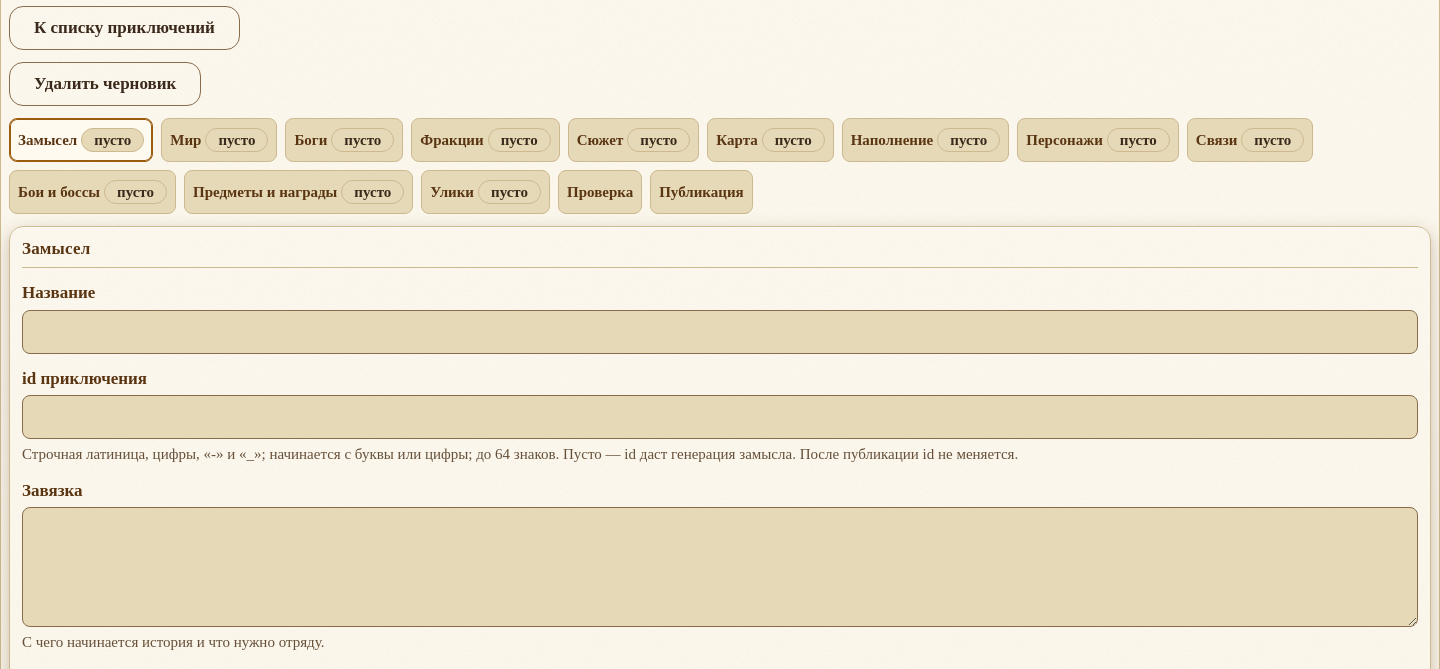
it: шаг «Связи» › при фильтре новая связь начинается с выбранной сущности и остаётся видна
Click the button "Связи пусто" at [1250, 140], box [1187,118,1313,162]
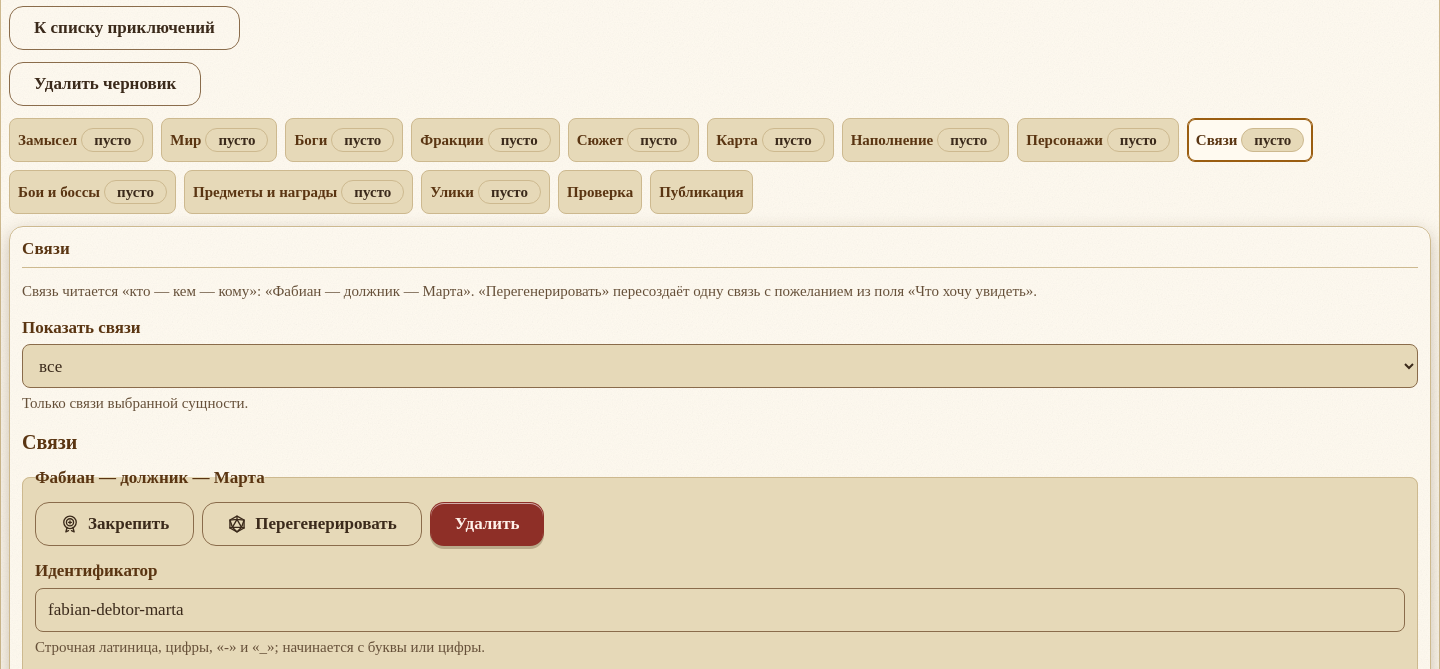
Select "Гильдия теней (фракция)" in the dropdown labelled "Показать связи" at [720, 366], box [22,344,1418,388]
(page scrolled)
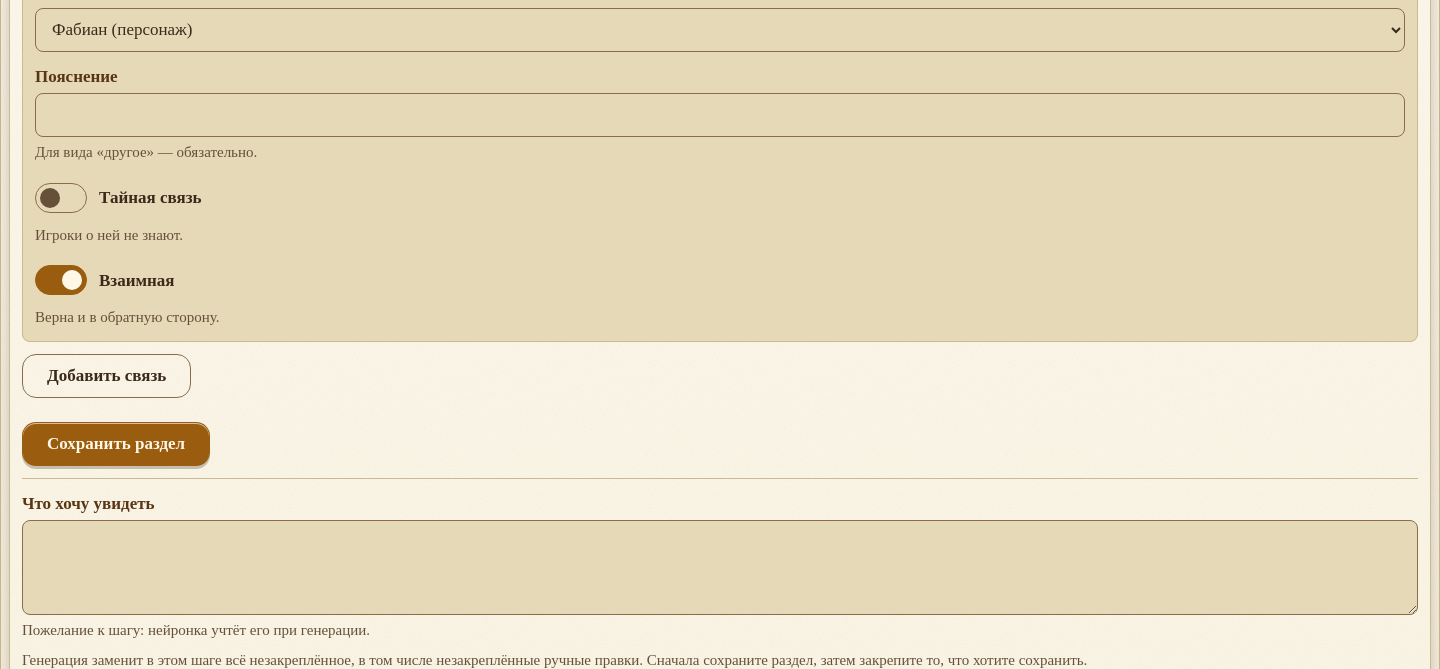
Click the button "Добавить связь" at [107, 376], box [22,354,191,398]
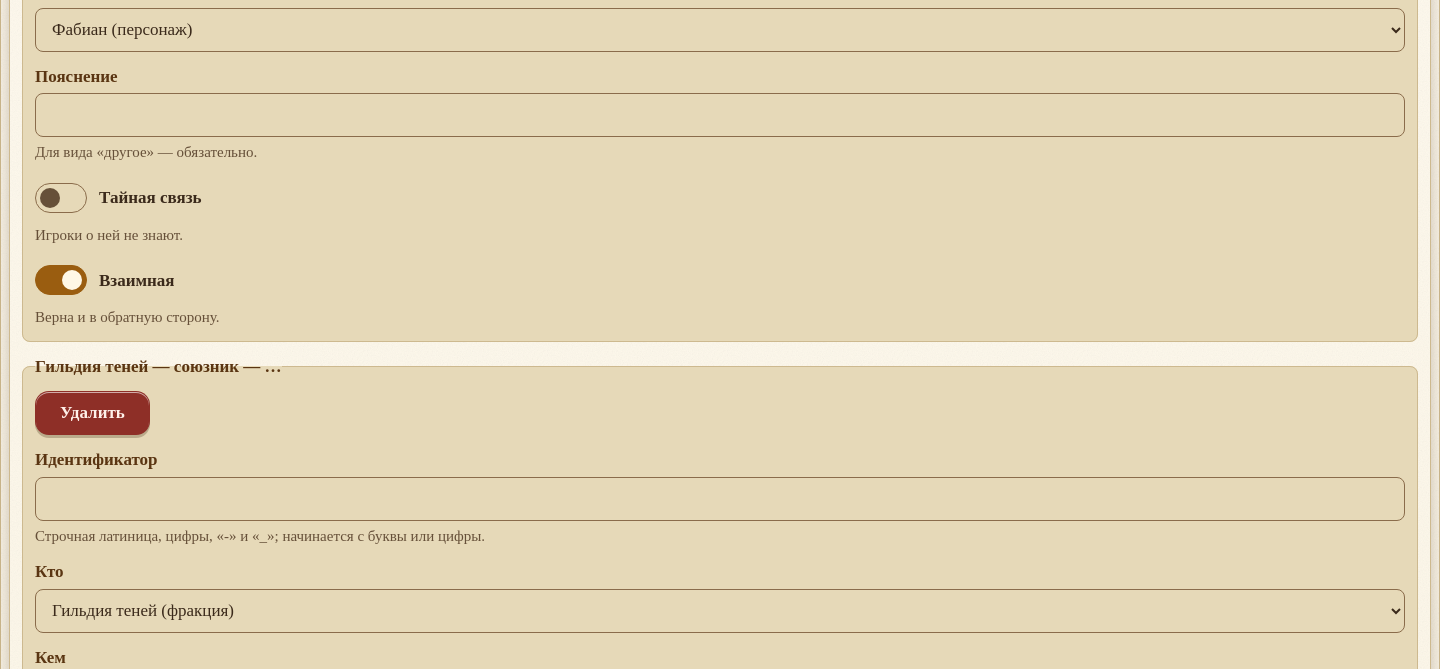
Expected: the dropdown labelled "Кто" shows "Гильдия теней (фракция)", [35,589,1405,633]
